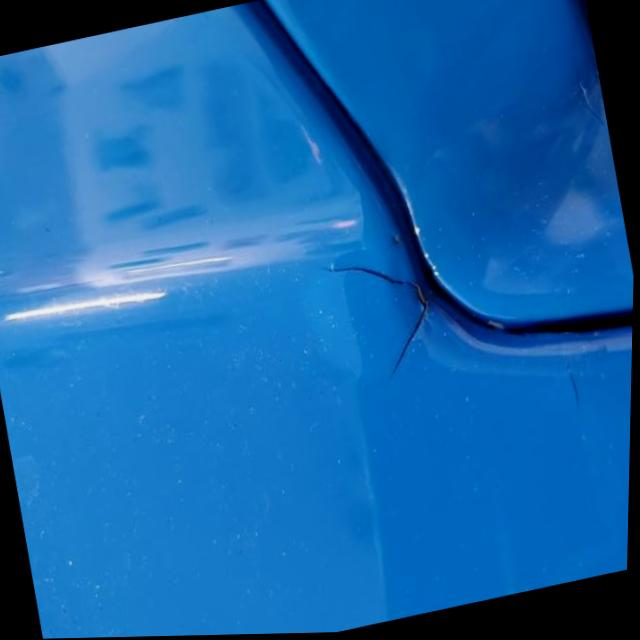Paint-Crack: (319, 261, 433, 384)
